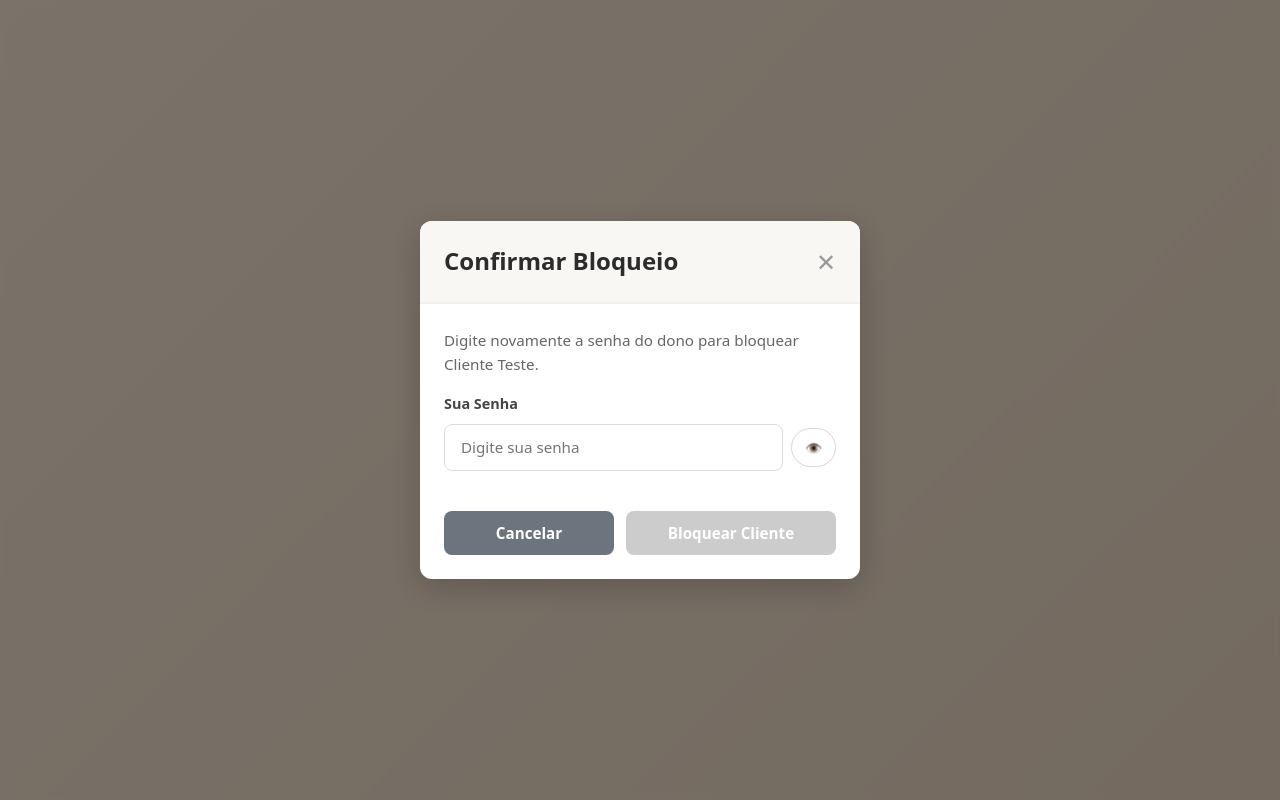
AdminBlockConfirmModal security flow › mostra erro em toast quando a senha esta incorreta ao block
Type "senha-errada" into the password field with placeholder "Digite sua senha" at (614, 447), box [444,424,783,471]
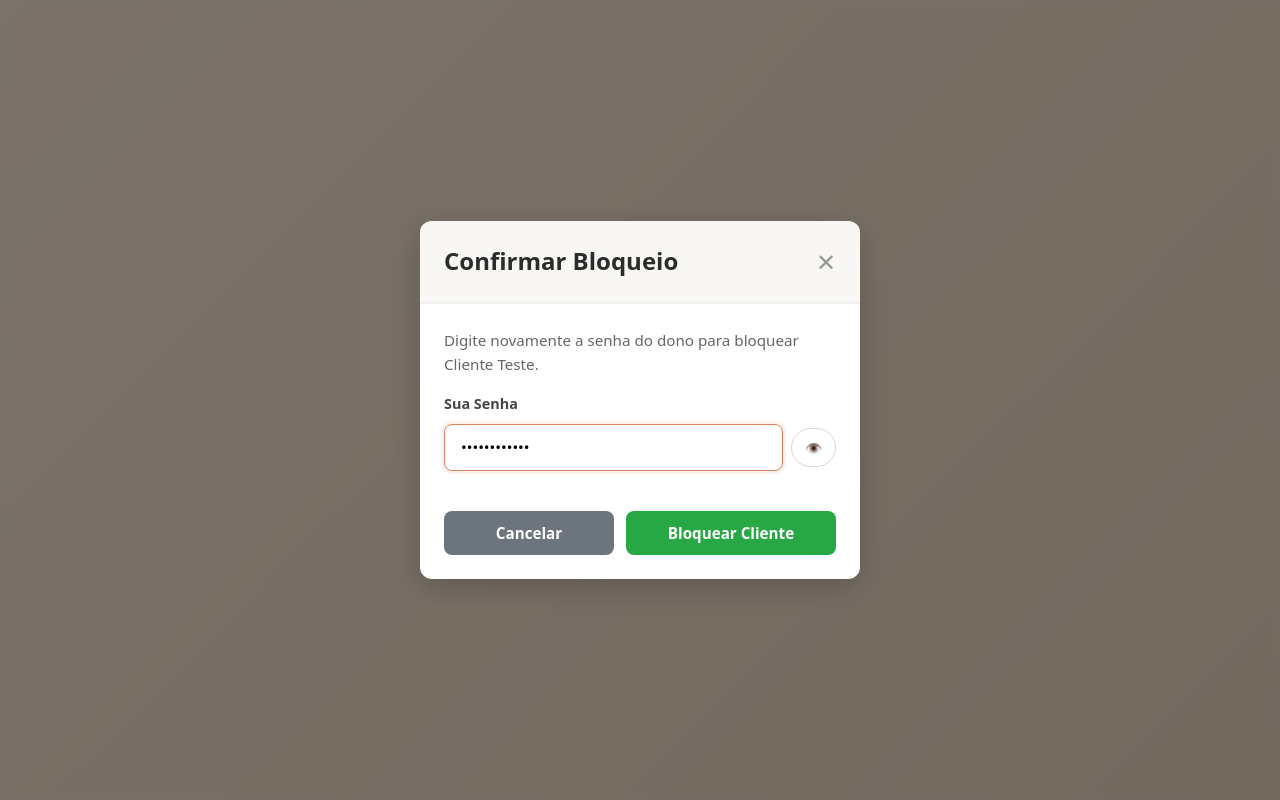
Click the button "Bloquear Cliente" at (731, 533), box [626,511,836,555]
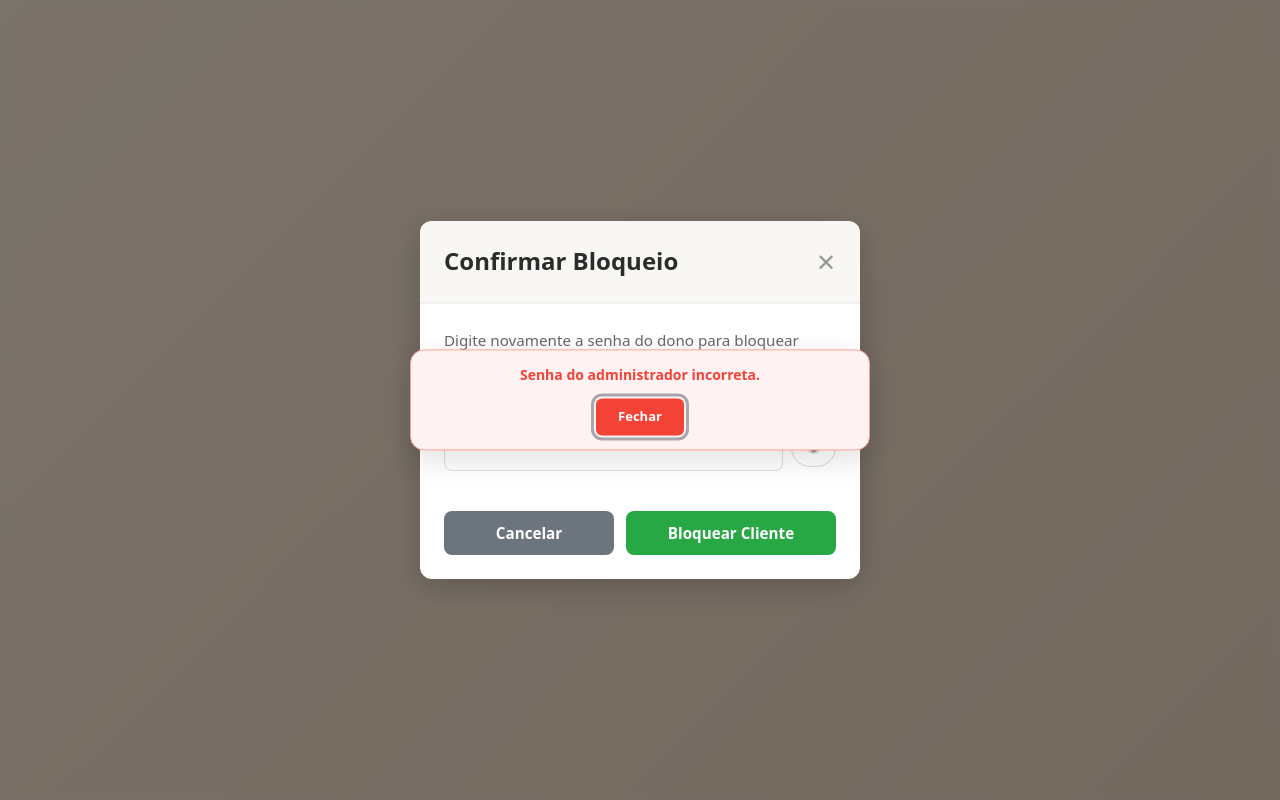
Now the text "Senha do administrador incorreta." is shown, box [520,364,760,387]
